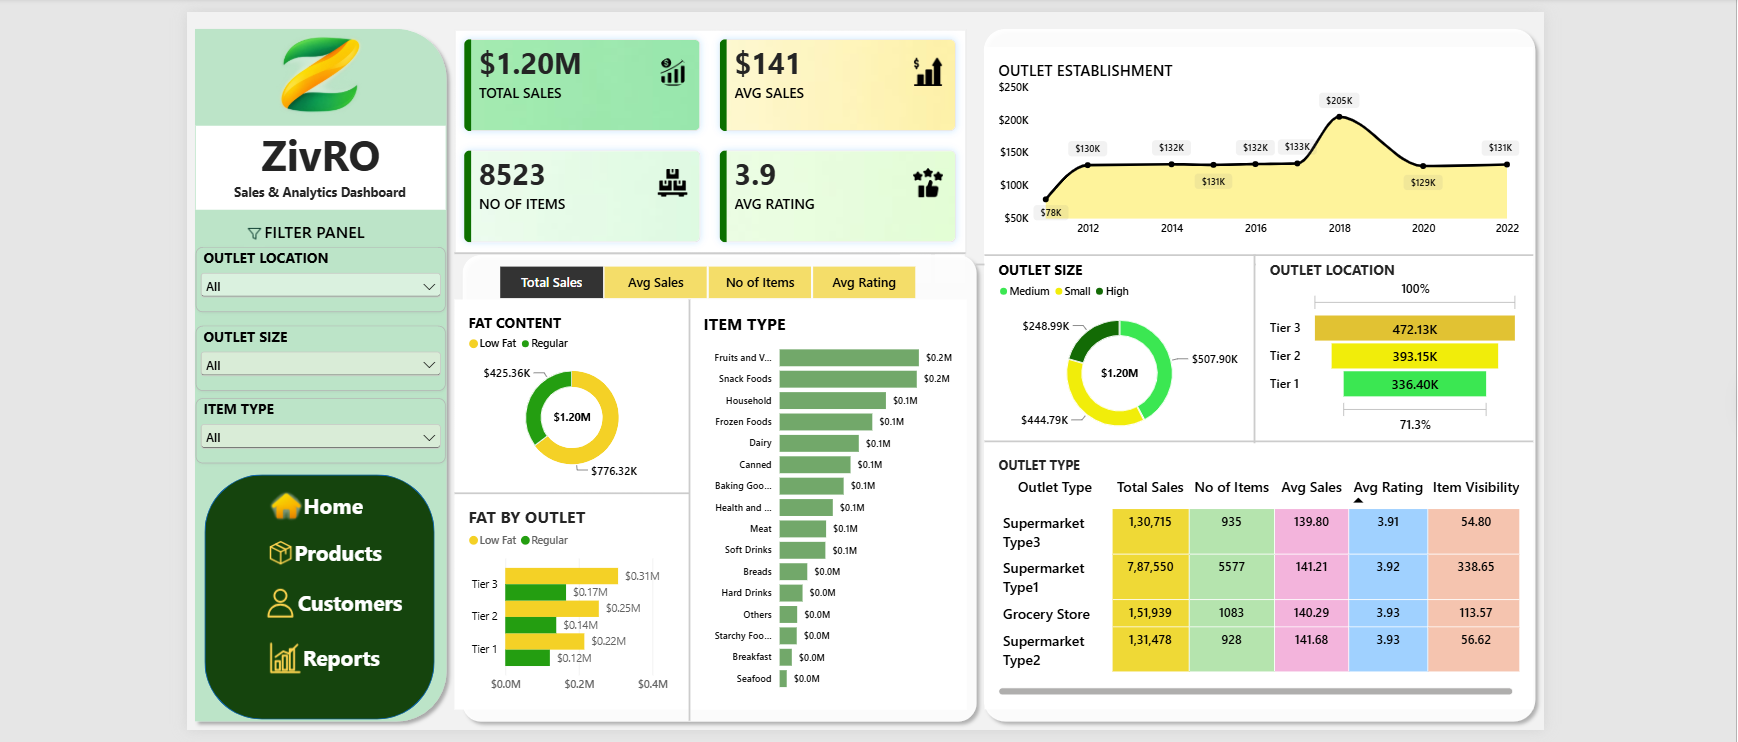

What the dashboard file says about the page in this screenshot:
{"tool":"powerbi","page":{"name":"Zivro","canvas":[1550,820],"ordinal":0},"visuals":[{"type":"shape","box":[0,10,305.7,810],"z":0},{"type":"textbox","box":[10,130,285.7,95.7],"z":1000},{"type":"textbox","box":[35.7,195.7,232.6,30],"z":2000},{"type":"cardVisual","fields":{"Data":["BlinkIT Grocery Data.Total Sales","BlinkIT Grocery Data.Avg Sales","BlinkIT Grocery Data.No of Items","BlinkIT Grocery Data.Avg Rating"]},"box":[305.7,20,584.3,255.7],"z":3000},{"type":"shape","box":[305.7,268.6,605.7,551.4],"z":4000},{"type":"slicer","fields":{"Values":["matrics.matrics"]},"box":[337.1,288.6,514.3,40],"z":5000},{"type":"donutChart","title":"FAT CONTENT","fields":{"Category":["BlinkIT Grocery Data.Item Fat Content"],"Y":["ZivRo Grocery Data.Total Sales"]},"box":[305.7,328.6,268.6,221.4],"z":6000},{"type":"clusteredBarChart","title":"FAT BY OUTLET","fields":{"Category":["BlinkIT Grocery Data.Outlet Location Type"],"Series":["BlinkIT Grocery Data.Item Fat Content"],"Y":["ZivRo Grocery Data.Total Sales"]},"box":[305.7,550,268.6,247.1],"z":7000},{"type":"shape","box":[305.7,528.6,270,42.9],"z":8000},{"type":"barChart","title":"ITEM TYPE","fields":{"Category":["BlinkIT Grocery Data.Item Type"],"Y":["ZivRo Grocery Data.Total Sales"]},"box":[574.3,328.6,317.1,468.6],"z":9000},{"type":"shape","box":[554.3,328.6,40,481.4],"z":10000},{"type":"shape","box":[901.4,10,648.6,810],"z":11000},{"type":"lineChart","title":"OUTLET ESTABLISHMENT","fields":{"Category":["BlinkIT Grocery Data.Outlet Establishment Year"],"Y":["BlinkIT Grocery Data.Total Sales"]},"box":[911.4,40,627.1,235.7],"z":12000},{"type":"shape","box":[901.4,268.6,637.1,40],"z":13000},{"type":"shape","box":[305.7,255.7,584.3,40],"z":14000},{"type":"donutChart","title":"OUTLET SIZE","fields":{"Category":["BlinkIT Grocery Data.Outlet Size"],"Y":["BlinkIT Grocery Data.Total Sales"]},"box":[911.4,268.6,308.6,240],"z":15000},{"type":"funnel","title":"OUTLET LOCATION","fields":{"Category":["BlinkIT Grocery Data.Outlet Location Type"],"Y":["Sum(BlinkIT Grocery Data.Sales)"]},"box":[1221.4,268.6,317.1,228.6],"z":16000},{"type":"shape","box":[1200,277.1,40,221.4],"z":17000},{"type":"pivotTable","title":"OUTLET TYPE","fields":{"Rows":["BlinkIT Grocery Data.Outlet Type"],"Values":["BlinkIT Grocery Data.Total Sales","BlinkIT Grocery Data.No of Items","BlinkIT Grocery Data.Avg Sales","BlinkIT Grocery Data.Avg Rating","Sum(BlinkIT Grocery Data.Item Visibility)"]},"box":[911.4,492.9,627.1,304.3],"z":18000},{"type":"slicer","fields":{"Values":["BlinkIT Grocery Data.Outlet Location Type"]},"box":[10,268.6,285.7,74.3],"z":19000},{"type":"slicer","fields":{"Values":["BlinkIT Grocery Data.Outlet Size"]},"box":[10,358.6,285.7,74.3],"z":20000},{"type":"slicer","fields":{"Values":["BlinkIT Grocery Data.Item Type"]},"box":[10,441.4,285.7,74.3],"z":21000},{"type":"textbox","box":[67.1,238.6,157.1,30],"z":22000},{"type":"image","box":[67.1,20,168.6,100],"z":23000},{"type":"shape","box":[20,528.6,262.9,280],"z":24000},{"type":"actionButton","title":"HOME","box":[54.3,535.7,185.7,57.1],"z":25000},{"type":"actionButton","title":"PRODUCTS","box":[77.1,651.4,178.6,47.1],"z":26000},{"type":"actionButton","title":"CUSTOMERS","box":[77.1,592.9,160,50],"z":27000},{"type":"actionButton","title":"REPORTS","box":[70,708.6,172.9,58.6],"z":28000},{"type":"actionButton","box":[64.3,238.6,25.7,30],"z":29000},{"type":"shape","box":[911.4,472.9,627.1,35.7],"z":30000},{"type":"shape","box":[911.4,260,627.1,35.7],"z":31000}]}

Visuals, with their boxes on the page's 1550x820 design canvas (x1, y1, x2, y2). These are canvas units, not pixel positions in the 1738x742 screenshot, which may show the page scaled, cropped or inside an application window:
shape: select_region(0, 10, 306, 820)
textbox: select_region(10, 130, 296, 226)
textbox: select_region(36, 196, 268, 226)
cardVisual - BlinkIT Grocery Data.Total Sales x BlinkIT Grocery Data.Avg Sales: select_region(306, 20, 890, 276)
shape: select_region(306, 269, 911, 820)
slicer - matrics.matrics: select_region(337, 289, 851, 329)
"FAT CONTENT" donutChart: select_region(306, 329, 574, 550)
"FAT BY OUTLET" clusteredBarChart: select_region(306, 550, 574, 797)
shape: select_region(306, 529, 576, 572)
"ITEM TYPE" barChart: select_region(574, 329, 891, 797)
shape: select_region(554, 329, 594, 810)
shape: select_region(901, 10, 1550, 820)
"OUTLET ESTABLISHMENT" lineChart: select_region(911, 40, 1538, 276)
shape: select_region(901, 269, 1538, 309)
shape: select_region(306, 256, 890, 296)
"OUTLET SIZE" donutChart: select_region(911, 269, 1220, 509)
"OUTLET LOCATION" funnel: select_region(1221, 269, 1538, 497)
shape: select_region(1200, 277, 1240, 498)
"OUTLET TYPE" pivotTable: select_region(911, 493, 1538, 797)
slicer - BlinkIT Grocery Data.Outlet Location Type: select_region(10, 269, 296, 343)
slicer - BlinkIT Grocery Data.Outlet Size: select_region(10, 359, 296, 433)
slicer - BlinkIT Grocery Data.Item Type: select_region(10, 441, 296, 516)
textbox: select_region(67, 239, 224, 269)
image: select_region(67, 20, 236, 120)
shape: select_region(20, 529, 283, 809)
"HOME" actionButton: select_region(54, 536, 240, 593)
"PRODUCTS" actionButton: select_region(77, 651, 256, 698)
"CUSTOMERS" actionButton: select_region(77, 593, 237, 643)
"REPORTS" actionButton: select_region(70, 709, 243, 767)
actionButton: select_region(64, 239, 90, 269)
shape: select_region(911, 473, 1538, 509)
shape: select_region(911, 260, 1538, 296)
